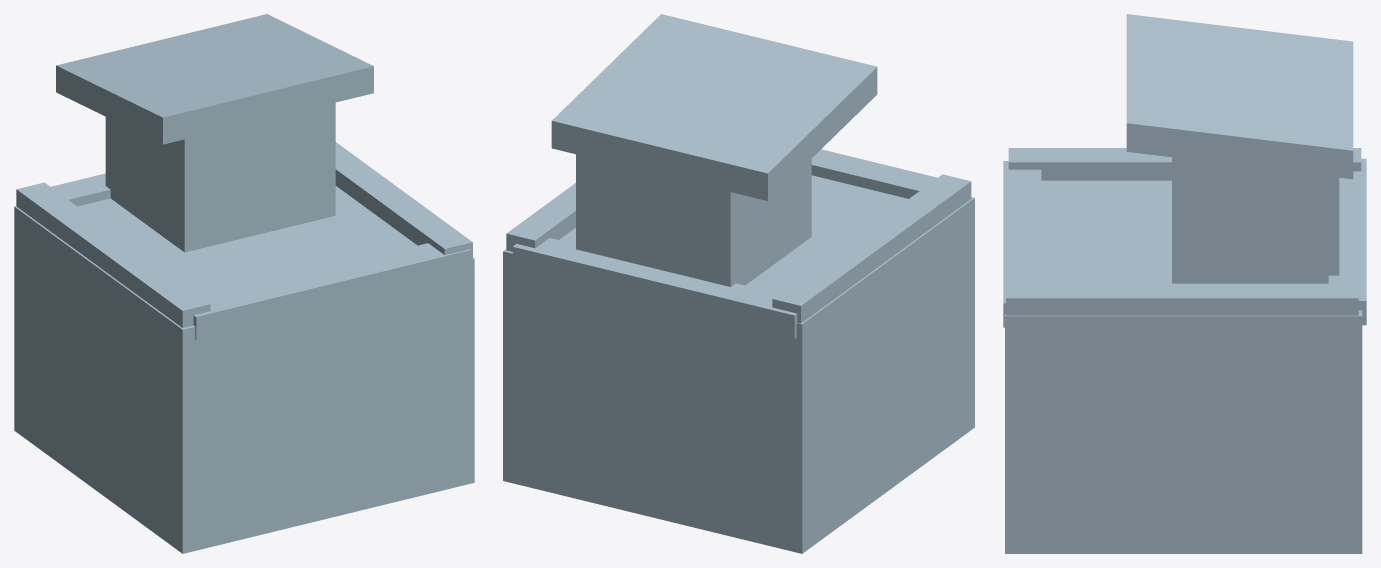
Rendered from Housing5Nav.glb.
The picture shows the model from 3 angles, left to right: view 1: azimuth 30°, elevation 25°; view 2: azimuth 150°, elevation 25°; view 3: azimuth 270°, elevation 25°; orthographic projection. The views are drawn at different scales.
Parts seen in each view (by area): view 1: Cube, Cube.002, Cube.001, Cube.004, Cube.003; view 2: Cube, Cube.002, Cube.001, Cube.003, Cube.004; view 3: Cube, Cube.002, Cube.001, Cube.004, Cube.003.
Part boxes in pixels (x1=…): Cube: x1=14, y1=142, x2=474, y2=553; Cube.002: x1=56, y1=14, x2=373, y2=144; Cube.001: x1=105, y1=102, x2=335, y2=252; Cube.004: x1=193, y1=243, x2=471, y2=339; Cube.003: x1=51, y1=173, x2=110, y2=206; Cube: x1=503, y1=174, x2=974, y2=553; Cube.002: x1=551, y1=14, x2=877, y2=200; Cube.001: x1=576, y1=154, x2=811, y2=286; Cube.003: x1=512, y1=238, x2=797, y2=338; Cube.004: x1=811, y1=149, x2=937, y2=198; Cube: x1=1005, y1=148, x2=1362, y2=553; Cube.002: x1=1126, y1=14, x2=1353, y2=179; Cube.001: x1=1172, y1=157, x2=1339, y2=283; Cube.004: x1=1003, y1=161, x2=1041, y2=327; Cube.003: x1=1328, y1=158, x2=1366, y2=325.
Size of the model in its own units: 3 by 3.78 by 3.05.
